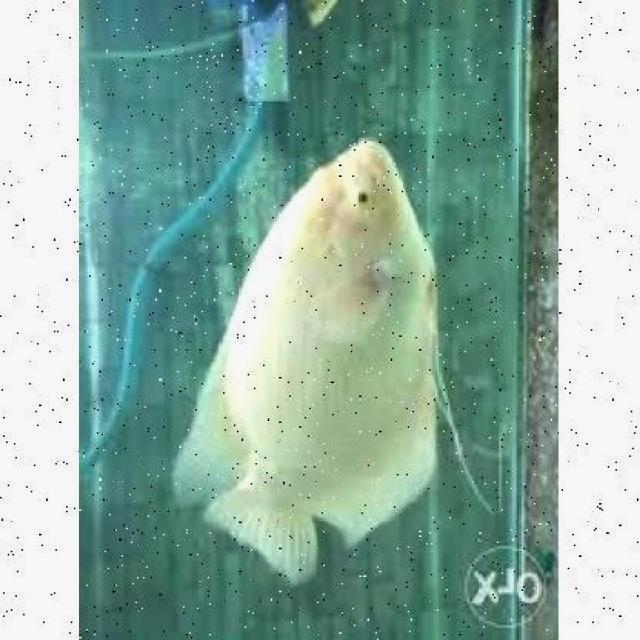gurame: (163, 141, 462, 561)
